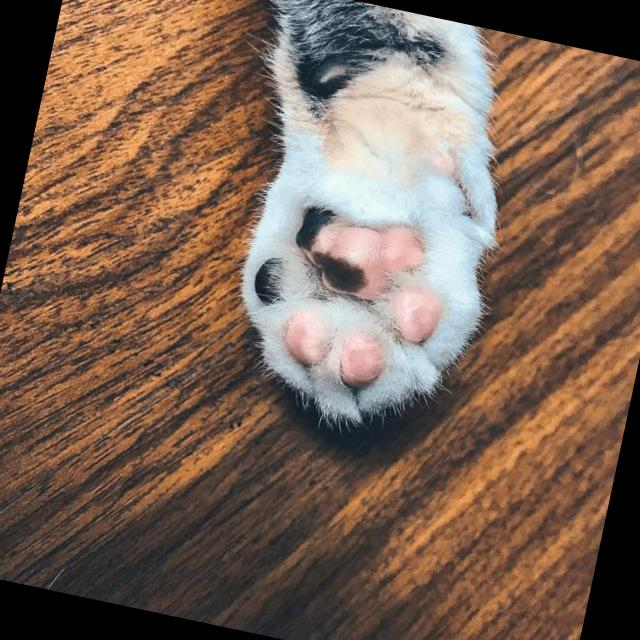Healthy skin: (296, 20, 439, 183), (410, 89, 484, 231), (299, 166, 393, 218)
